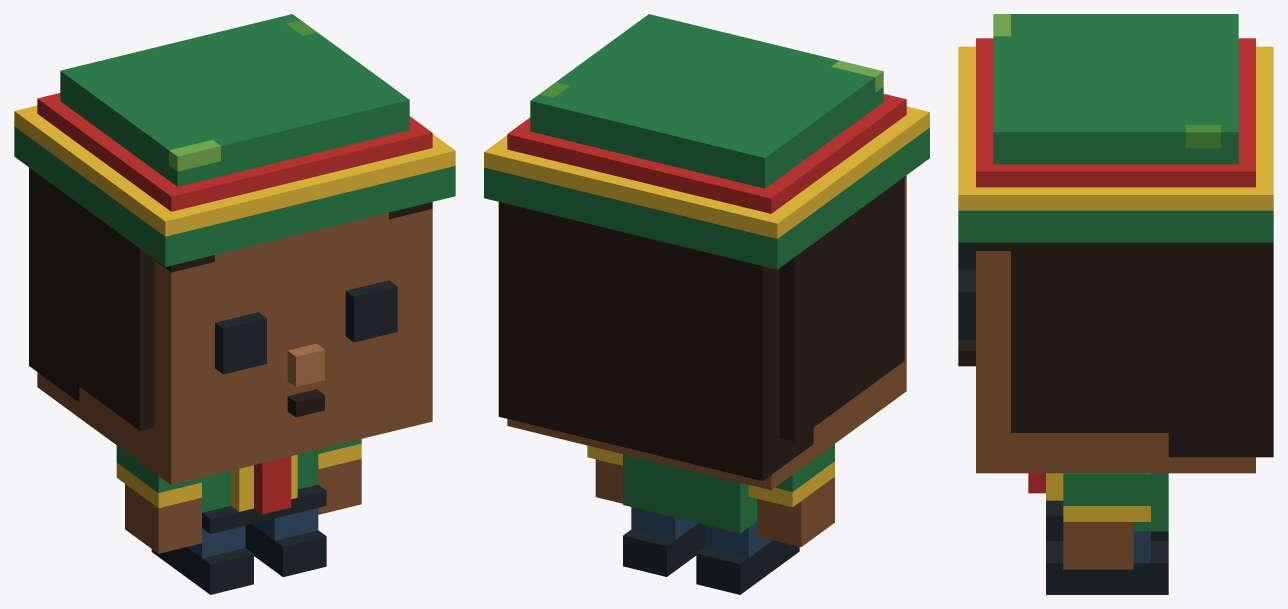
Rendered from rasta_grower.glb.
3 views of the same model, side by side, from view 1: azimuth 30°, elevation 25°; view 2: azimuth 150°, elevation 25°; view 3: azimuth 270°, elevation 25° (orthographic). The views are drawn at different scales.
Visible parts, largest first — view 1: head, torso, arm_left, leg_right, leg_left, arm_right; view 2: head, torso, arm_left, leg_left, leg_right, arm_right; view 3: head, arm_right, leg_right, torso.
Part boxes in pixels (x1=…): head: x1=14, y1=14, x2=455, y2=485; torso: x1=202, y1=449, x2=326, y2=533; arm_left: x1=116, y1=445, x2=201, y2=553; leg_right: x1=245, y1=508, x2=326, y2=577; leg_left: x1=151, y1=525, x2=253, y2=594; arm_right: x1=318, y1=439, x2=361, y2=514; head: x1=484, y1=14, x2=929, y2=490; torso: x1=623, y1=454, x2=757, y2=533; arm_left: x1=748, y1=444, x2=834, y2=546; leg_left: x1=696, y1=521, x2=799, y2=594; leg_right: x1=623, y1=507, x2=704, y2=576; arm_right: x1=587, y1=445, x2=622, y2=503; head: x1=958, y1=14, x2=1273, y2=473; arm_right: x1=1063, y1=473, x2=1150, y2=569; leg_right: x1=1046, y1=531, x2=1168, y2=594; torso: x1=1028, y1=473, x2=1168, y2=531.
Bounding box in the file's own units: 1 × 1.55 × 0.9.
Materials: 1 (1 with a texture image).
